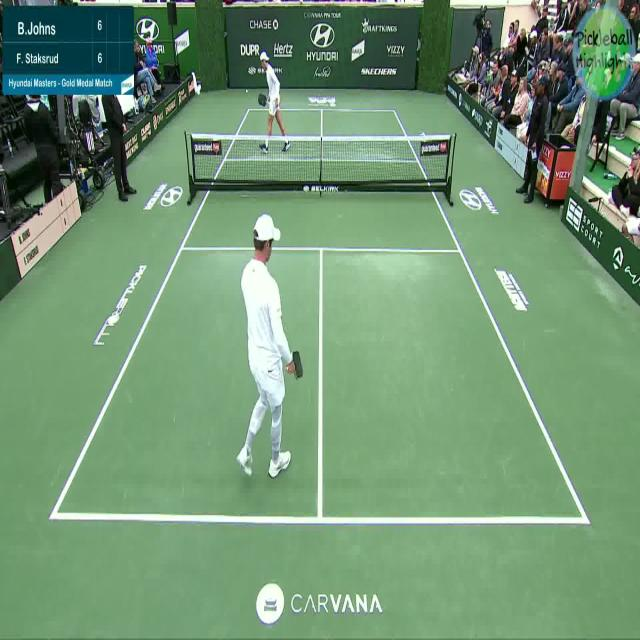Court: (54, 110, 585, 524)
ball: (240, 82, 250, 100)
